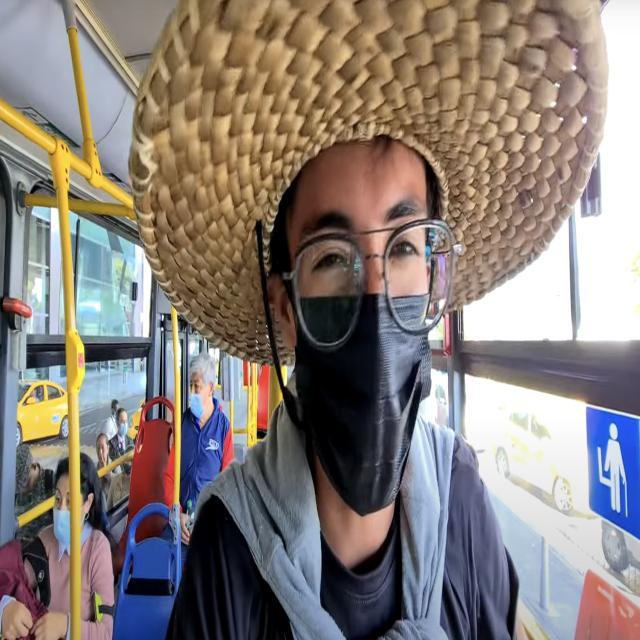Persona: (129, 0, 608, 639), (179, 354, 234, 544), (0, 537, 68, 639), (33, 458, 70, 639), (80, 453, 114, 639), (0, 539, 47, 620), (163, 445, 174, 506)
